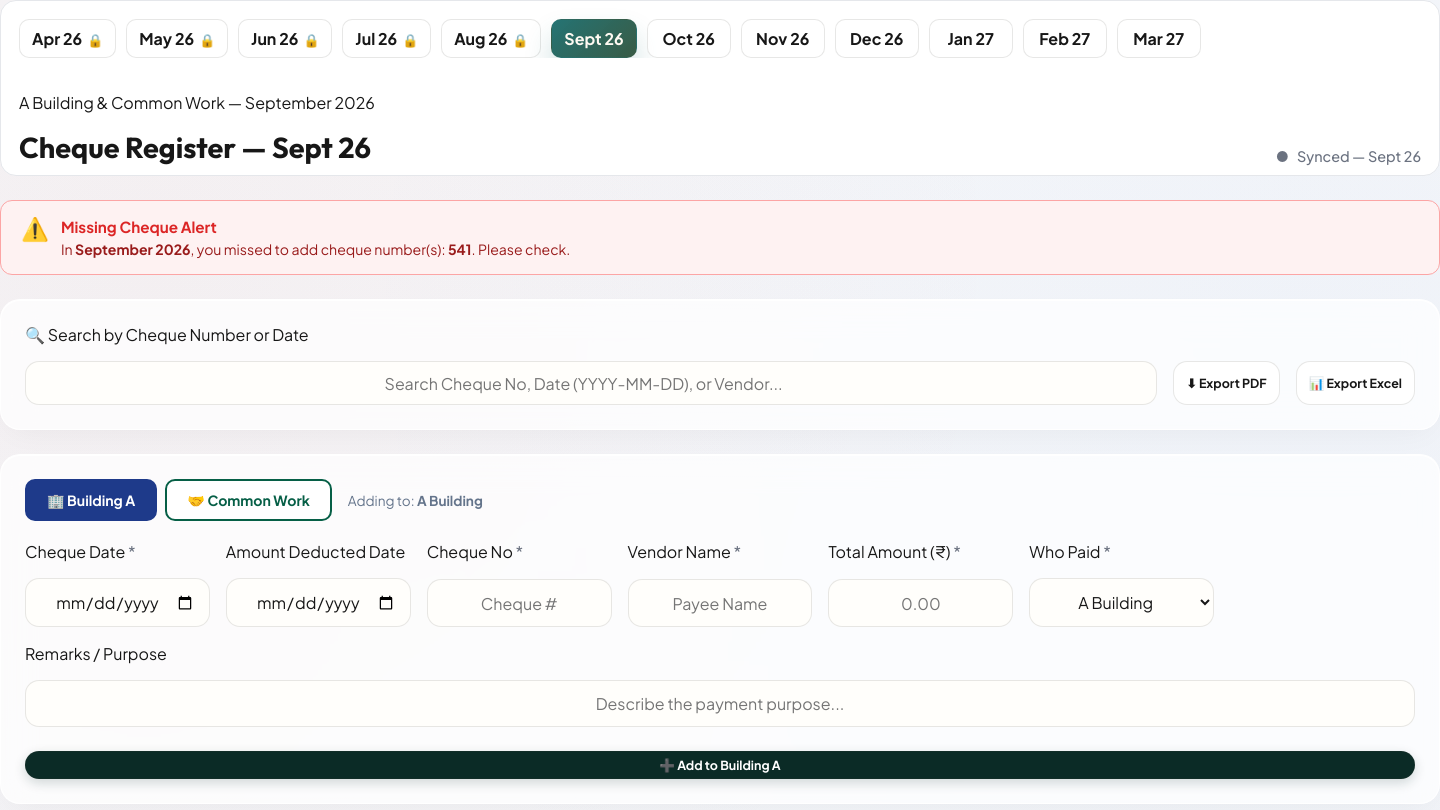
ChequeManagement Component - Automatic Past Month Lock System › shows locked banner and disabled form when viewing a closed past month (e.g. June 2026)
Click the button "Jun 26🔒".
click(285, 38)  # box [238, 19, 332, 58]
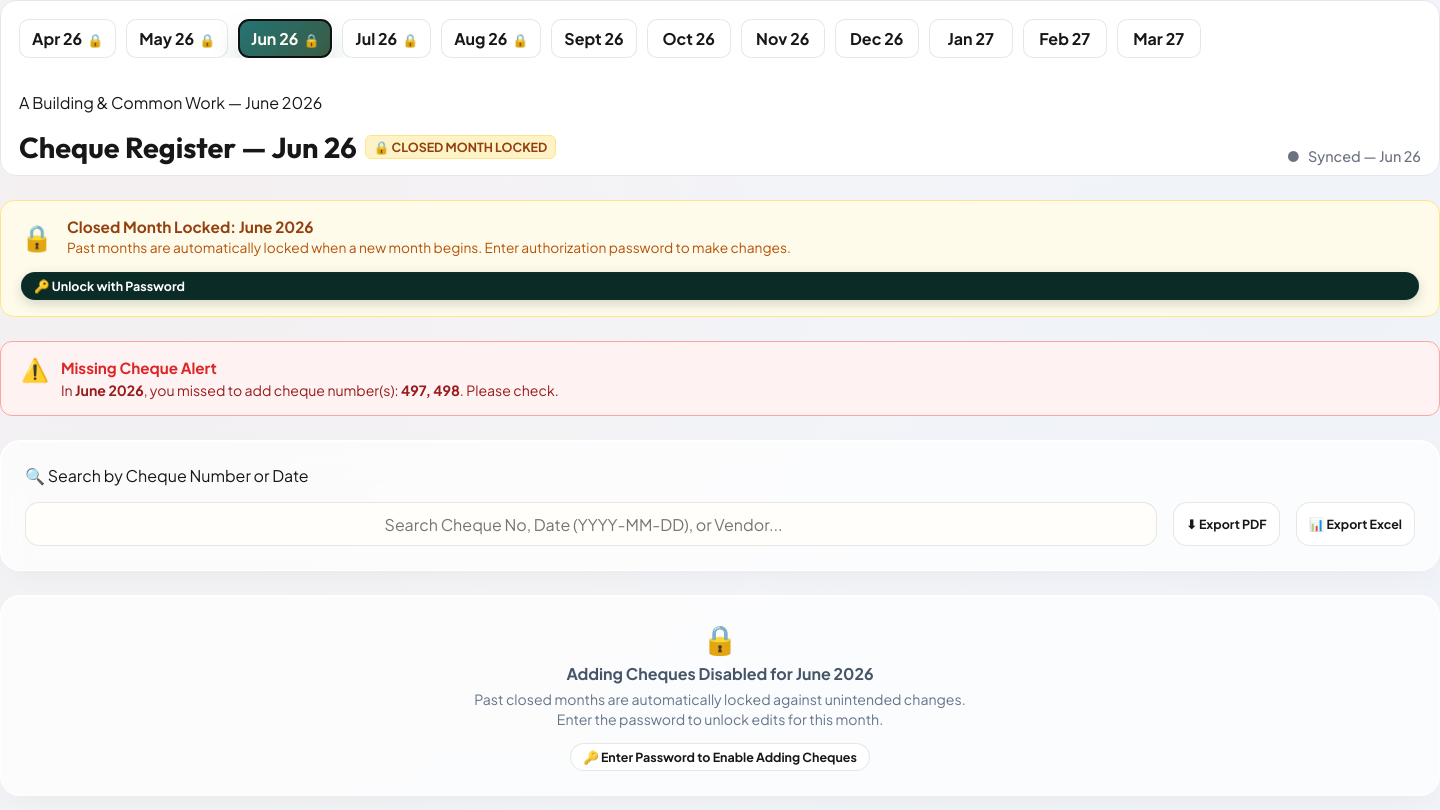
Now the heading "Closed Month Locked: June 2026" is shown, box [67, 217, 314, 236]
Now the text "🔒 CLOSED MONTH LOCKED" is shown, box [365, 135, 556, 159]
Now the heading "Adding Cheques Disabled for June 2026" is shown, box [566, 663, 874, 684]
